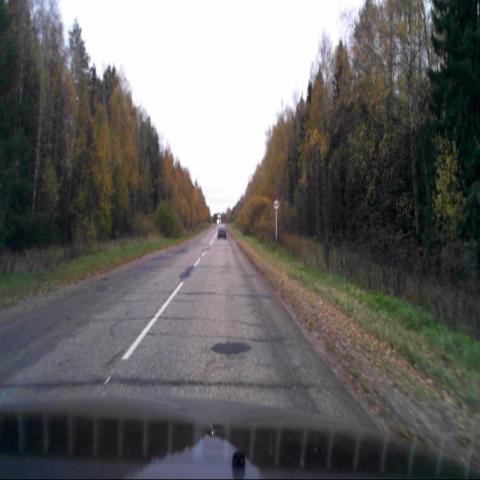3_20: (273, 199, 279, 210)
